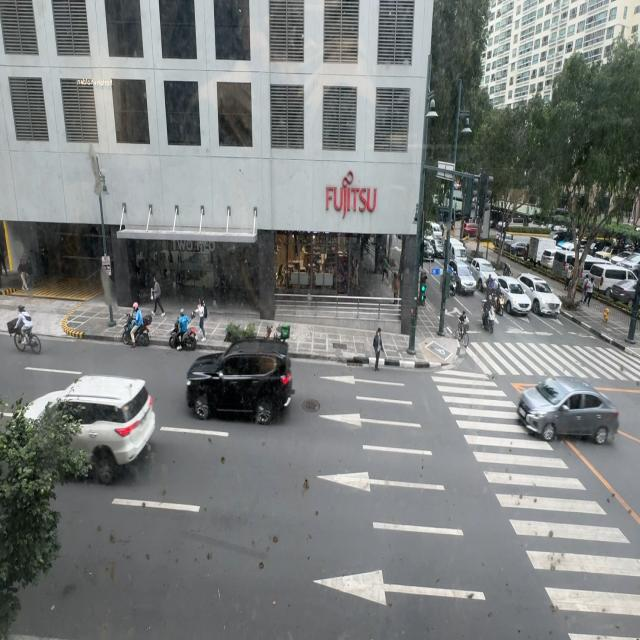jaywalking: (374, 329, 384, 372)
pedestrain: (195, 298, 208, 340), (152, 276, 165, 316)
